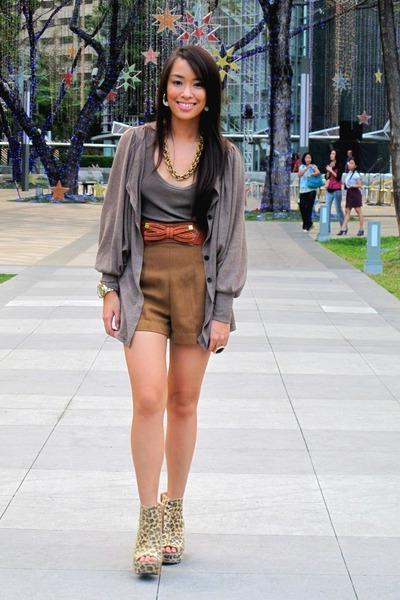Shorts: (121, 238, 217, 339)
sweater: (93, 123, 253, 345)
vest: (135, 130, 221, 229)
